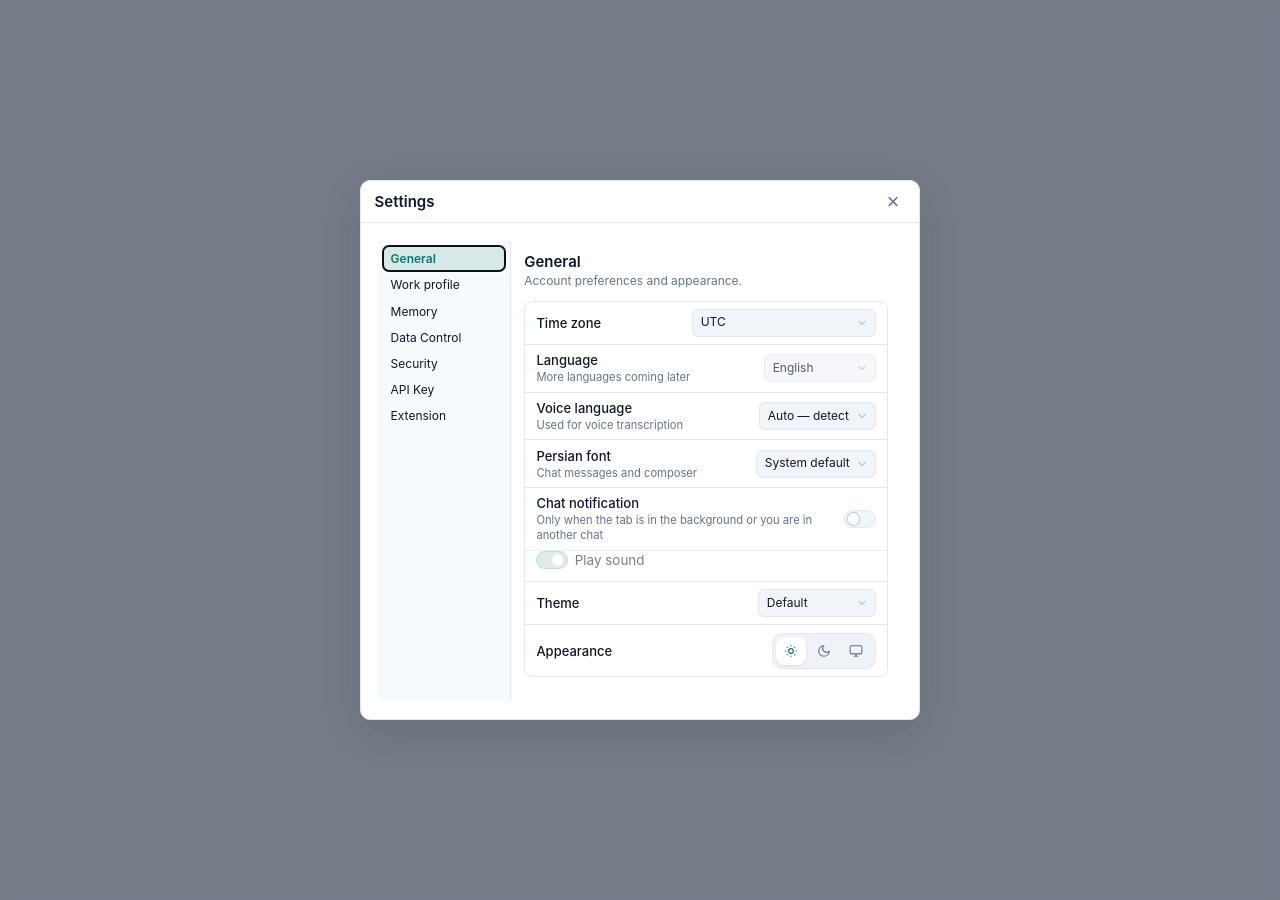
Test: the Extension tab › is in the menu and opens the browser extension's panel
Click the button "Extension".
click(444, 416)  # box top-left (383, 404), bottom-right (505, 428)
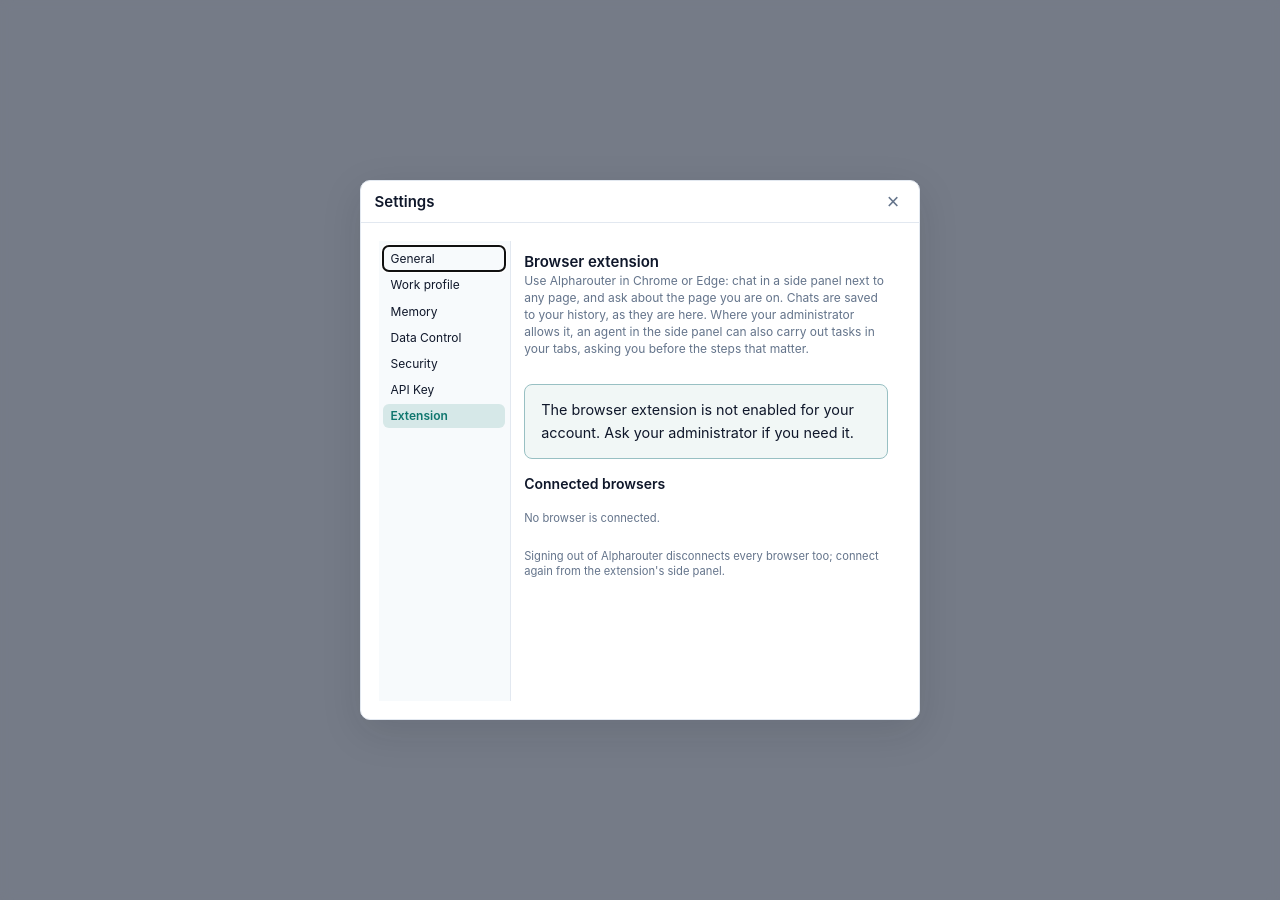
Now the text "Browser extension" is shown, box top-left (524, 252), bottom-right (659, 271)
